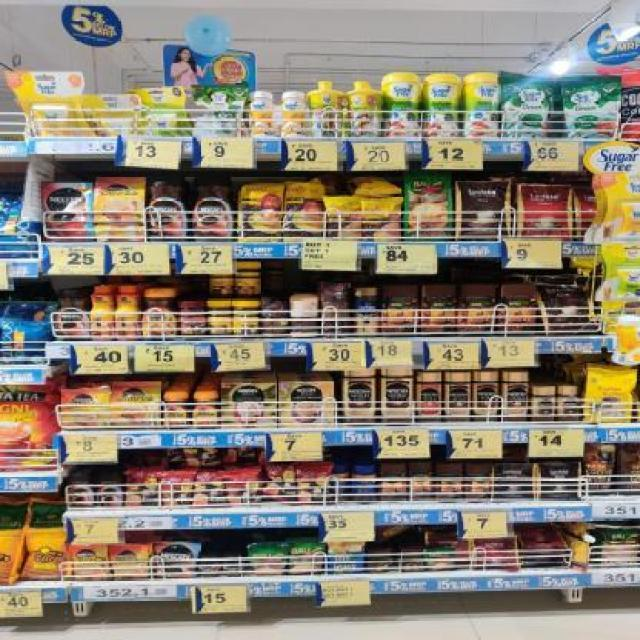Coffee: (95, 179, 143, 239), (192, 175, 235, 241), (145, 175, 189, 239), (43, 181, 91, 237), (342, 368, 378, 424), (60, 387, 108, 428), (380, 369, 416, 423), (113, 382, 159, 424), (55, 289, 89, 340), (143, 289, 177, 338), (444, 372, 474, 421), (472, 371, 500, 420), (155, 541, 194, 575), (504, 372, 530, 421), (116, 286, 138, 338), (92, 287, 114, 339), (71, 546, 105, 578), (192, 392, 220, 428), (98, 475, 126, 508), (162, 393, 189, 427), (113, 547, 144, 576), (66, 476, 94, 507), (559, 387, 581, 421), (535, 388, 556, 420), (198, 556, 220, 576), (224, 556, 244, 577)
